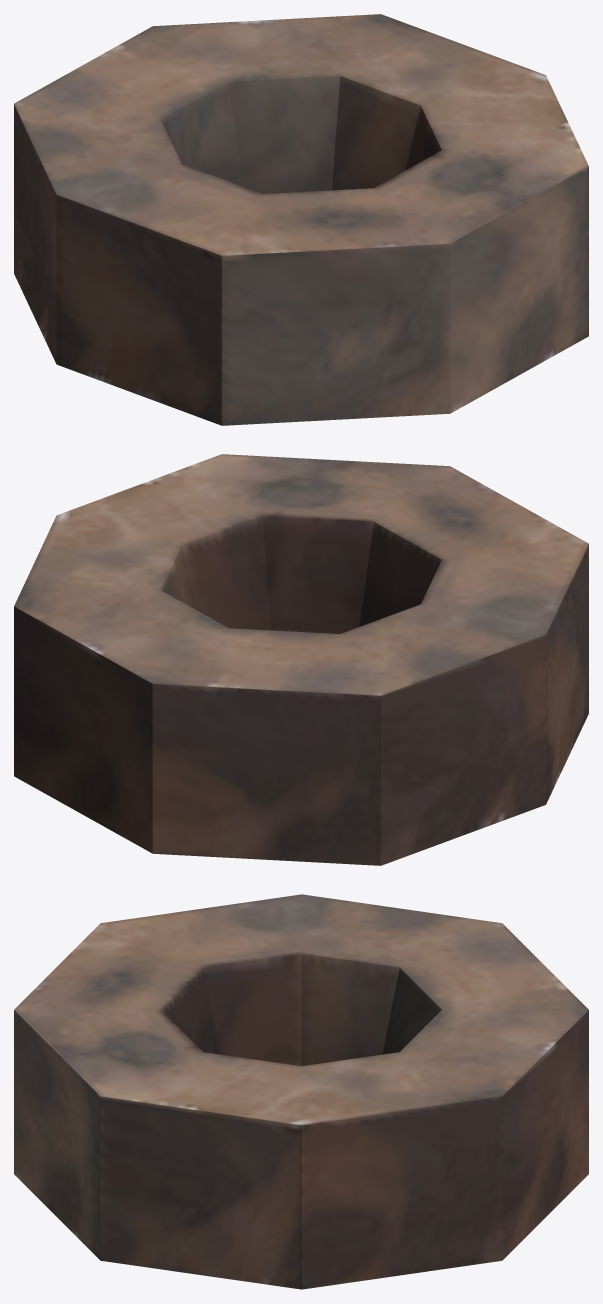
The model's file is SM_Head_Bolt.FBX.
The picture shows the model from 3 angles, top to bottom: view 1: azimuth 30°, elevation 25°; view 2: azimuth 150°, elevation 25°; view 3: azimuth 270°, elevation 25°; orthographic projection. The views are drawn at different scales.
Visible parts, largest first — view 1: SM_Head_Bolt; view 2: SM_Head_Bolt; view 3: SM_Head_Bolt.
Boxes of the visible parts, <box> form: SM_Head_Bolt: <box>14,14,588,425</box>; SM_Head_Bolt: <box>14,454,588,865</box>; SM_Head_Bolt: <box>14,894,588,1289</box>.
Size of the model in its own units: 2.75 by 2.9 by 1.
